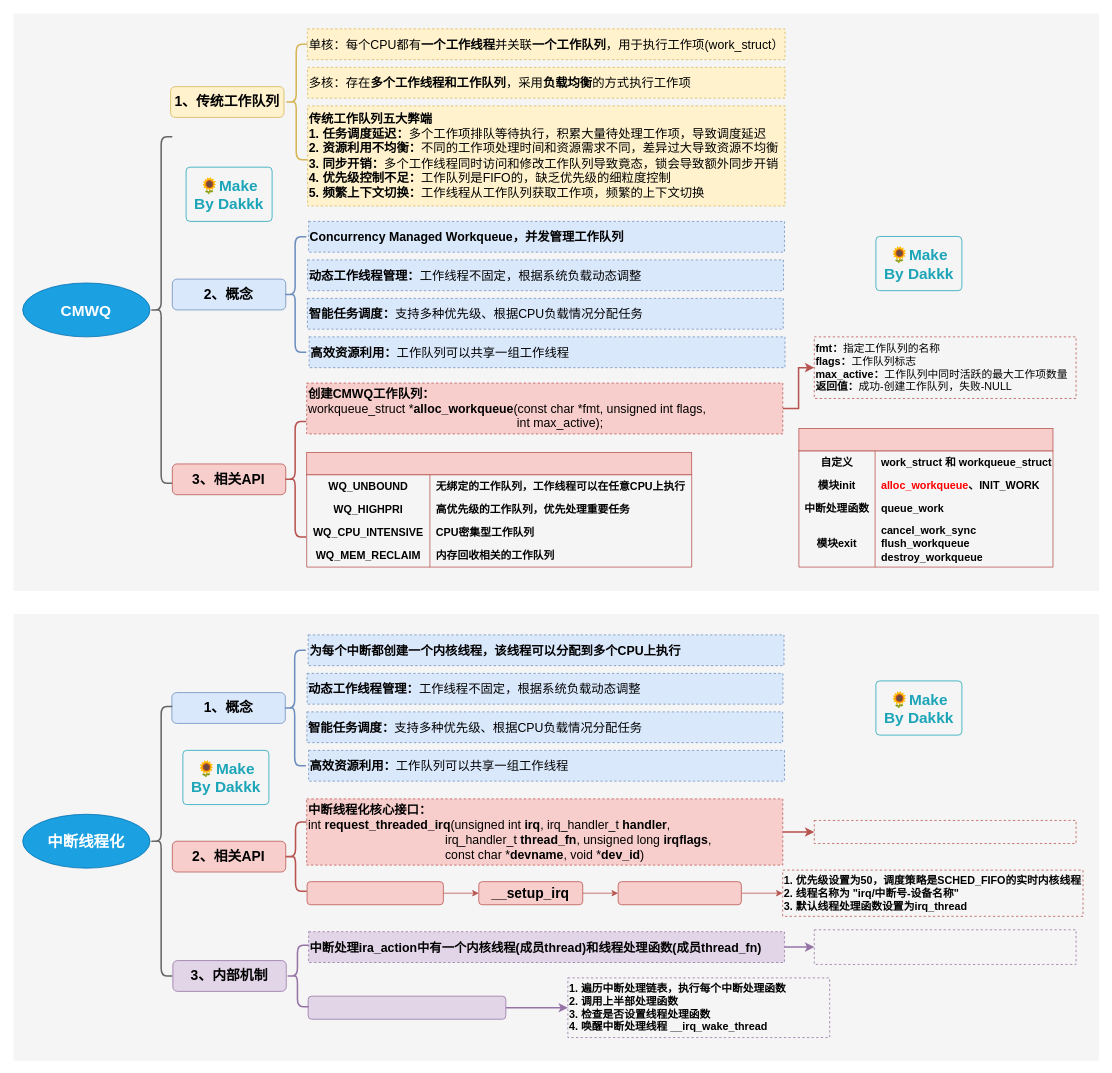
This 1112x1073 diagram has some shape labels left out. Here are the shapes that lost their labels. From the top down, the centre of each, then its label:
At point (925, 439): "API使用（CMWQ）".
At point (499, 463): "工作队列标志".
At point (945, 832): "关键是thread_fn函数，用于在中断线程处理耗时任务".
At point (374, 893): "request_thread_irq".
At point (679, 893): "setup_irq_thread".
At point (945, 946): "注意时钟中断不能线程化 thread_flag = IRQF_NO_THREAD".
At point (406, 1007): "__handle_irq_event_percpu".
